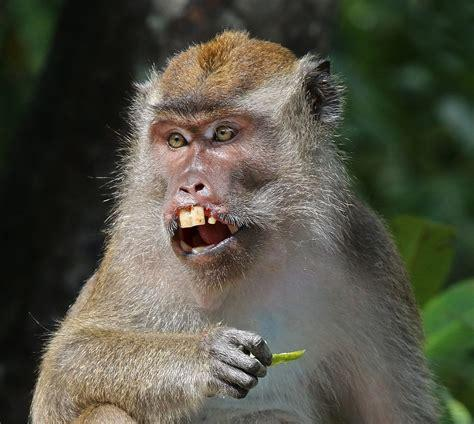monkey: (31, 35, 441, 424)
